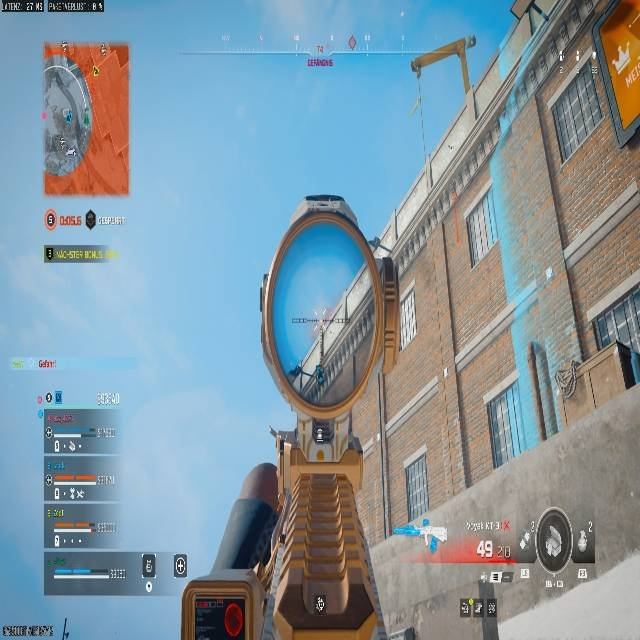head: (250, 4, 633, 503), (257, 191, 409, 417)
